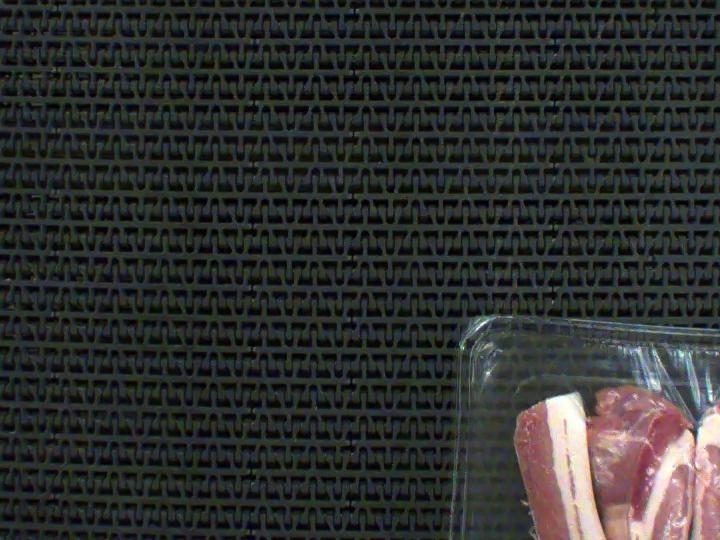unsealed: (498, 368, 720, 540)
